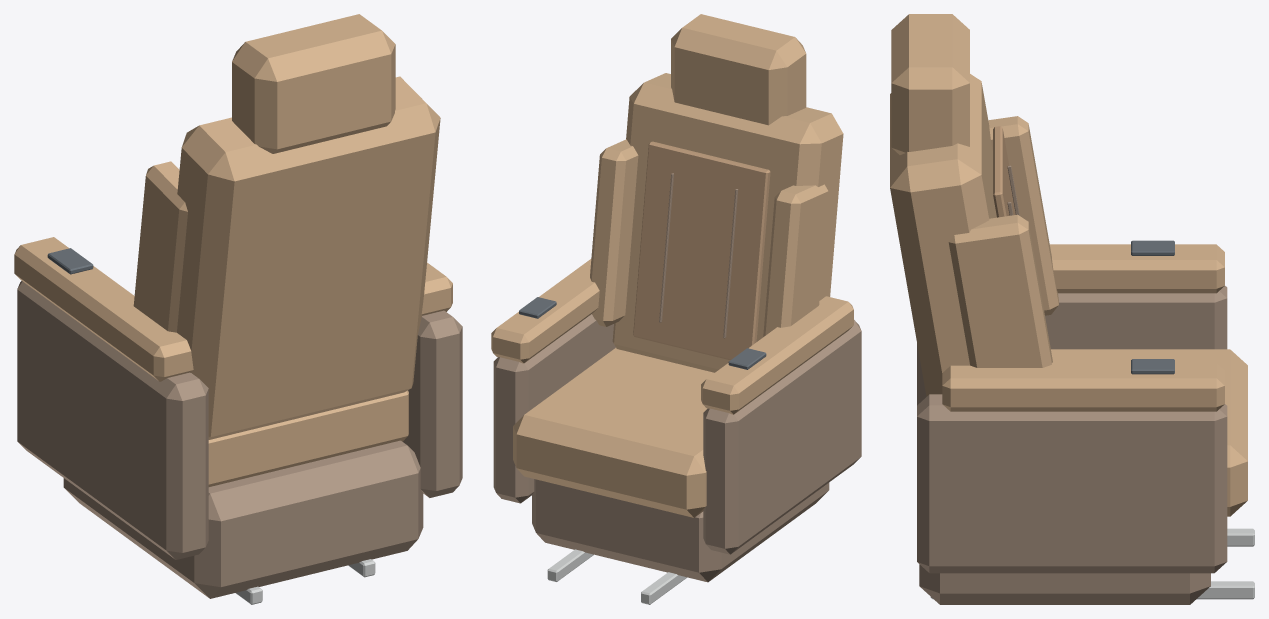
File: CaptainSeatLeft.glb
3 renders of one model, left to right at view 1: azimuth 30°, elevation 25°; view 2: azimuth 150°, elevation 25°; view 3: azimuth 270°, elevation 25°, orthographic. The views are drawn at different scales.
Parts seen in each view (by area): view 1: CaptainSeatLeft_SandUpholstery, CaptainSeatLeft_WalnutDashboard, CaptainSeatLeft_CharcoalTrim, CaptainSeatLeft_MatteAlloy; view 2: CaptainSeatLeft_SandUpholstery, CaptainSeatLeft_WalnutDashboard, CaptainSeatLeft_SeatInsert, CaptainSeatLeft_MatteAlloy, CaptainSeatLeft_CharcoalTrim; view 3: CaptainSeatLeft_WalnutDashboard, CaptainSeatLeft_SandUpholstery, CaptainSeatLeft_MatteAlloy, CaptainSeatLeft_SeatInsert, CaptainSeatLeft_CharcoalTrim.
Part boxes in pixels (x1=…): CaptainSeatLeft_SandUpholstery: x1=14, y1=14, x2=452, y2=486; CaptainSeatLeft_WalnutDashboard: x1=17, y1=281, x2=462, y2=598; CaptainSeatLeft_CharcoalTrim: x1=47, y1=248, x2=93, y2=274; CaptainSeatLeft_MatteAlloy: x1=235, y1=559, x2=375, y2=604; CaptainSeatLeft_SandUpholstery: x1=491, y1=14, x2=853, y2=517; CaptainSeatLeft_WalnutDashboard: x1=493, y1=173, x2=861, y2=582; CaptainSeatLeft_SeatInsert: x1=633, y1=141, x2=770, y2=360; CaptainSeatLeft_MatteAlloy: x1=547, y1=549, x2=686, y2=604; CaptainSeatLeft_CharcoalTrim: x1=519, y1=297, x2=766, y2=369; CaptainSeatLeft_WalnutDashboard: x1=917, y1=165, x2=1227, y2=604; CaptainSeatLeft_SandUpholstery: x1=890, y1=14, x2=1247, y2=516; CaptainSeatLeft_MatteAlloy: x1=930, y1=528, x2=1254, y2=599; CaptainSeatLeft_SeatInsert: x1=993, y1=126, x2=1015, y2=217; CaptainSeatLeft_CharcoalTrim: x1=1131, y1=240, x2=1174, y2=374.
Size of the model in its own units: 0.714 by 1.26 by 0.788.
